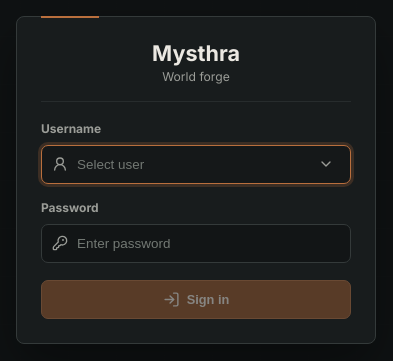
Test: Login user combobox › closes after selection and keeps the selected username
Click the dropdown. click: (190, 164)
box: [77, 146, 303, 183]
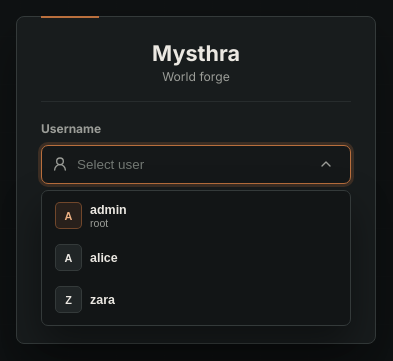
Click the option "A alice". click: (68, 258)
box: [47, 238, 345, 278]
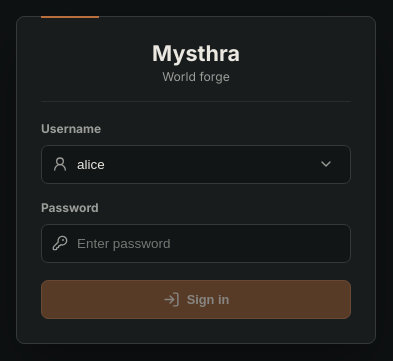
Expected: the list is gone
Expected: the dropdown holds "alice", [77, 146, 303, 183]
